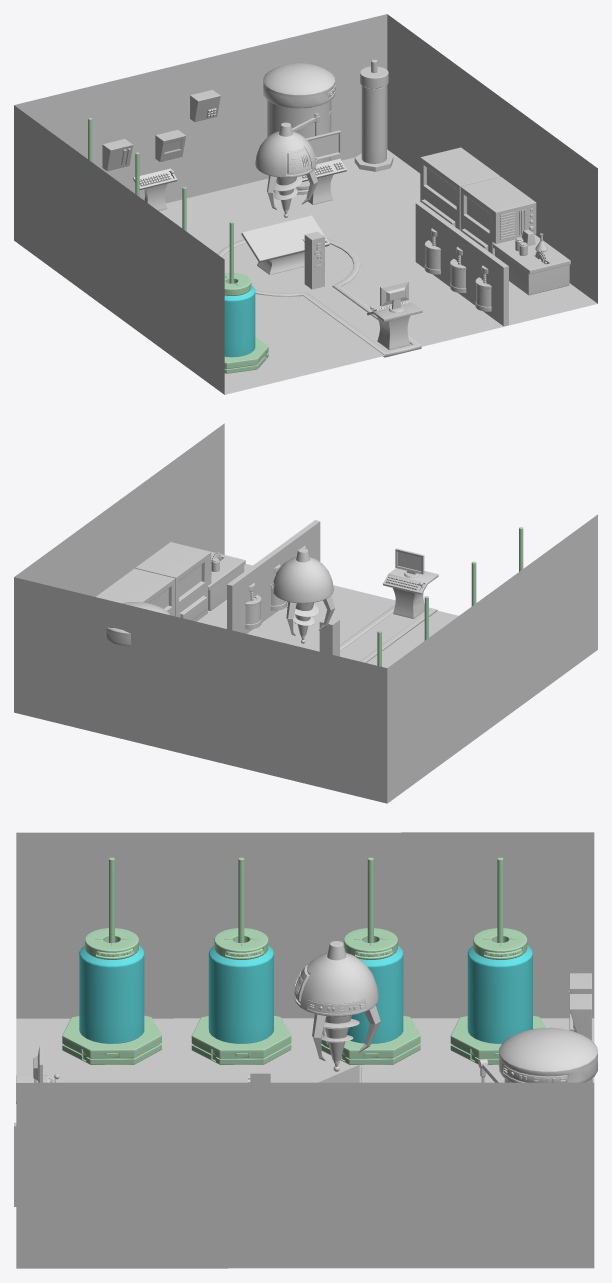
Rendered from Proy Escenario .fbx.
3 views of the same model, one above another, from view 1: azimuth 30°, elevation 25°; view 2: azimuth 150°, elevation 25°; view 3: azimuth 270°, elevation 25° (orthographic). The views are drawn at different scales.
Parts seen in each view (by area): view 1: Cube, RADIADOR, Cube.001, CABINA CILINDRO GRANDE, BASE, LASER, MESA SIERRA, FRASCO DELGADO, MESON GRANDE, COMPUTADORA, CIRCULO PISO, PANTALLA (+6 smaller); view 2: Cube, RADIADOR, Cube.001, LASER, COMPUTADORA, MESA SIERRA, BASE, CIRCULO PISO, FRASCO PEQUEÑO, MUESTRA 1,6m, CABINA CILINDRO GRANDE; view 3: Cube, BASE, LASER, CABINA CILINDRO GRANDE, MEDIDOR DE PARED, COMPUTADORA.
Part boxes in pixels (bbox=[...]): Cube: bbox=[14, 14, 597, 394]; RADIADOR: bbox=[420, 147, 536, 255]; Cube.001: bbox=[415, 202, 508, 326]; CABINA CILINDRO GRANDE: bbox=[263, 63, 335, 163]; BASE: bbox=[88, 117, 268, 373]; LASER: bbox=[255, 122, 318, 217]; MESA SIERRA: bbox=[493, 229, 570, 295]; FRASCO DELGADO: bbox=[354, 59, 393, 171]; MESON GRANDE: bbox=[241, 215, 329, 274]; COMPUTADORA: bbox=[367, 280, 422, 349]; CIRCULO PISO: bbox=[217, 239, 421, 357]; PANTALLA: bbox=[292, 113, 346, 204]; Cube: bbox=[14, 423, 597, 803]; RADIADOR: bbox=[96, 542, 211, 621]; Cube.001: bbox=[227, 520, 320, 633]; LASER: bbox=[272, 548, 334, 643]; COMPUTADORA: bbox=[383, 548, 438, 618]; MESA SIERRA: bbox=[208, 551, 245, 610]; BASE: bbox=[377, 527, 523, 666]; CIRCULO PISO: bbox=[340, 605, 437, 662]; FRASCO PEQUEÑO: bbox=[245, 546, 305, 629]; MUESTRA 1,6m: bbox=[319, 617, 339, 656]; CABINA CILINDRO GRANDE: bbox=[106, 602, 169, 646]; Cube: bbox=[16, 832, 594, 1268]; BASE: bbox=[62, 857, 545, 1064]; LASER: bbox=[294, 941, 380, 1071]; CABINA CILINDRO GRANDE: bbox=[499, 1027, 597, 1082]; MEDIDOR DE PARED: bbox=[569, 994, 591, 1040]; COMPUTADORA: bbox=[16, 1046, 60, 1103].
Bounding box in the file's own units: 1262 × 464 × 1246.
